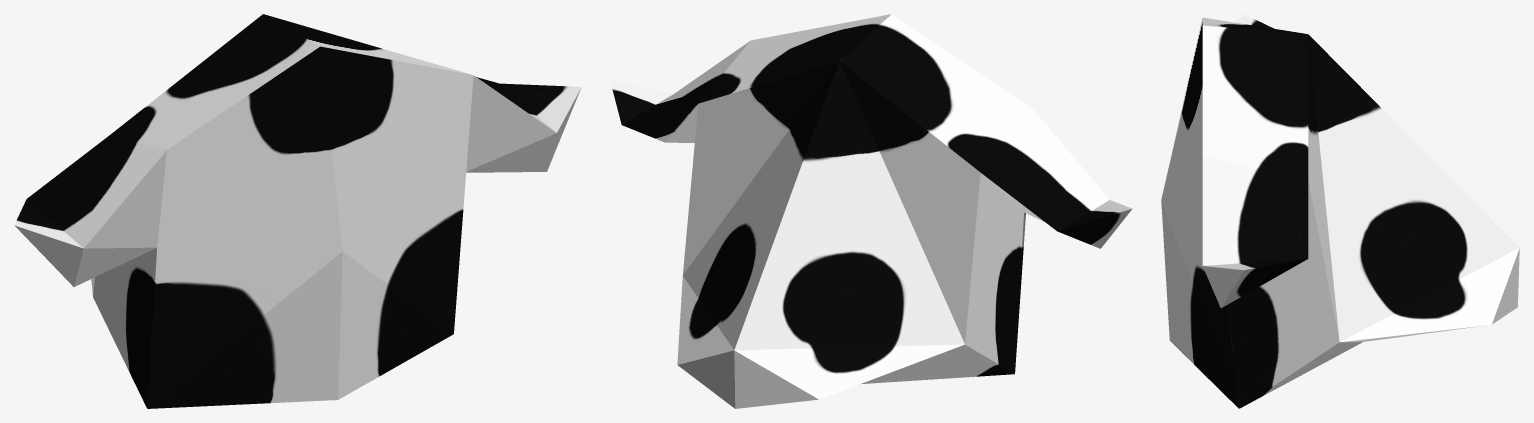
File: cowhat.fbx
The picture shows the model from 3 angles, left to right: view 1: azimuth 30°, elevation 25°; view 2: azimuth 150°, elevation 25°; view 3: azimuth 270°, elevation 25°; orthographic projection. The views are drawn at different scales.
Parts seen in each view (by area): view 1: Cube; view 2: Cube; view 3: Cube.
Boxes of the visible parts, <box> form: Cube: <box>14,14,581,408</box>; Cube: <box>610,14,1132,408</box>; Cube: <box>1161,14,1519,408</box>.
Bounding box in the file's own units: 239 × 138 × 141.
Materials: 1 (1 with a texture image).
